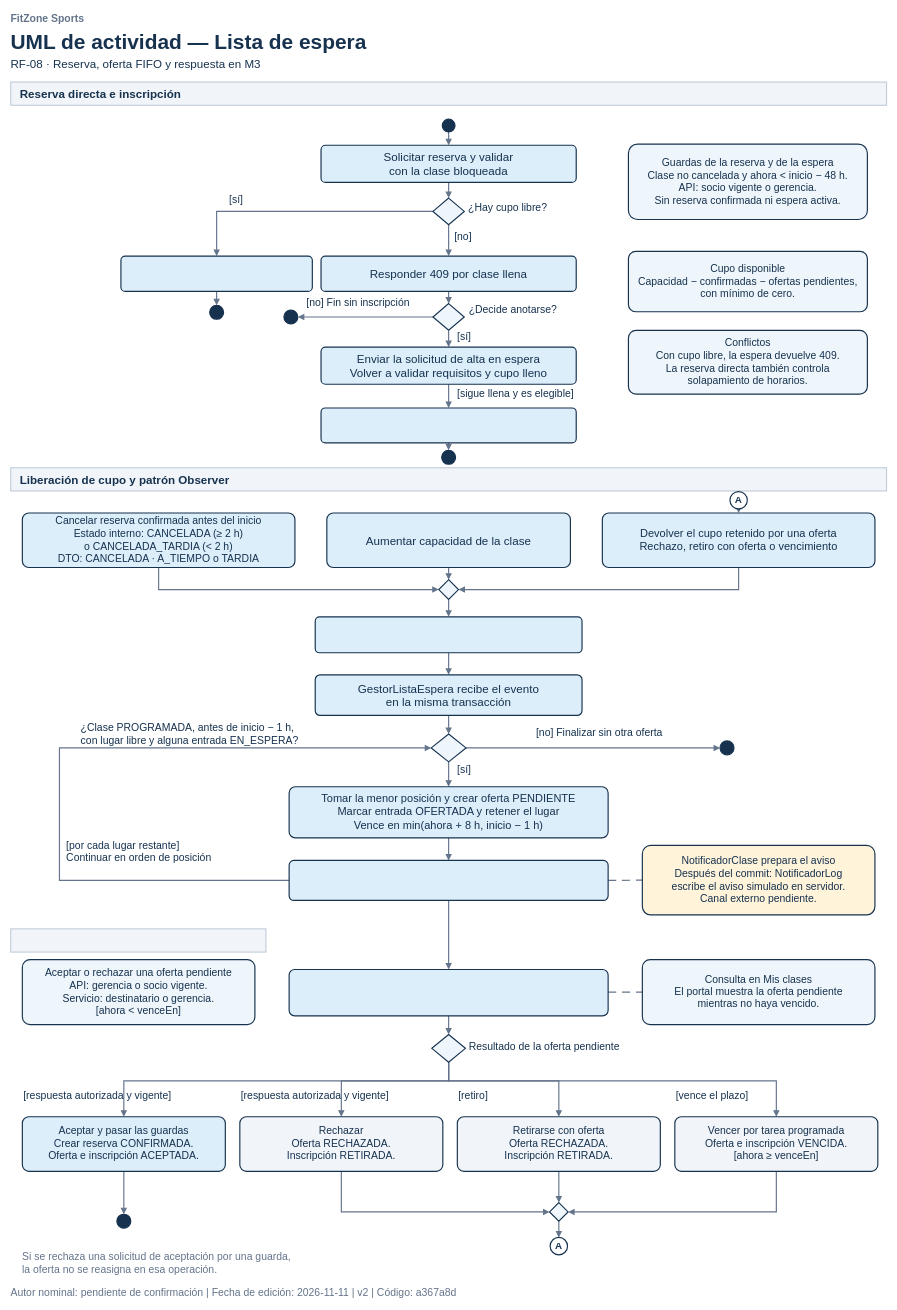
The diagram is 897 pixels wide and 1310 high, and some of its shapes have lost their labels. The shapes that lost their labels are listed below. From the top down, each one's box as (x1, y1, x2, y2) in pixels, then its label:
(120, 255, 313, 292): Crear reserva CONFIRMADA
(320, 407, 577, 443): Registrar EN_ESPERA Posición = última posición + 1
(314, 616, 582, 653): PublicadorClase publica CupoLiberado
(288, 860, 608, 901): PublicadorClase publica OfertaGenerada
(10, 928, 266, 952): Oferta en el portal y resultado
(288, 969, 608, 1016): Esperar respuesta, retiro o vencimiento de la oferta pendiente
